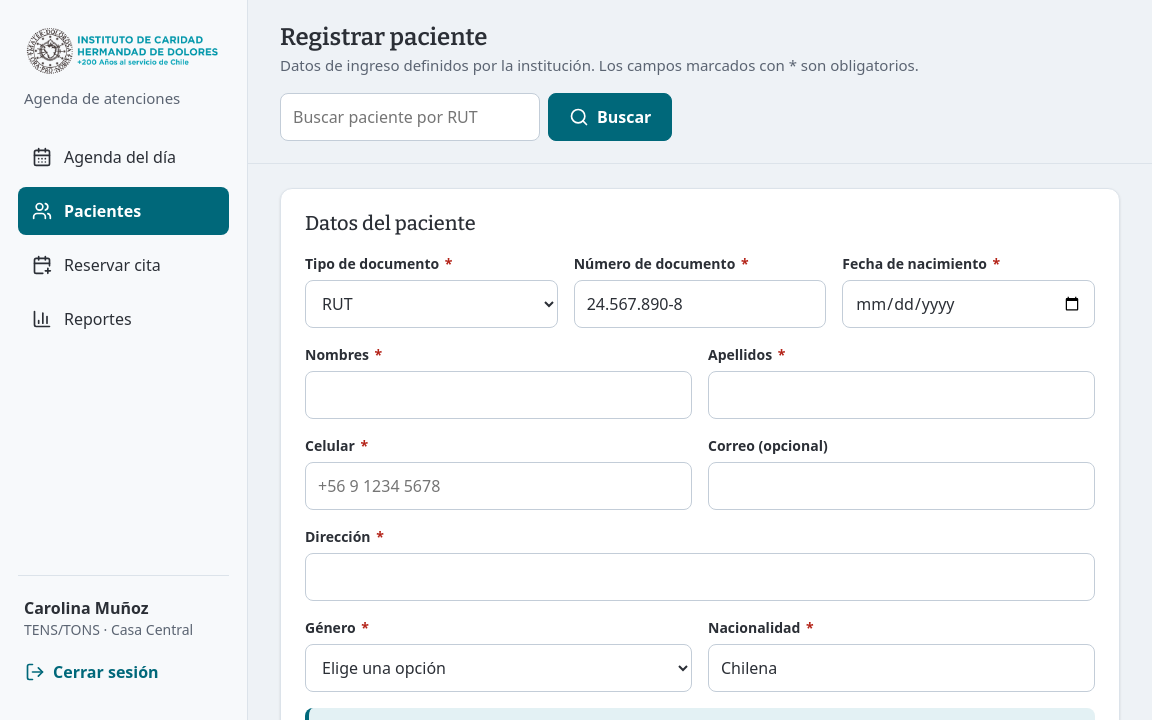
Test: Registrar paciente menor sin adulto responsable (RN-05, CA-RF12-1) › muestra el error y no envía el formulario
Expected: the heading "Registrar paciente" is shown, [280, 23, 488, 51]
In the date field labelled "Fecha de nacimiento *": (969, 304) [842, 280, 1095, 328], type "2017-03-14"
In the field labelled "Nombres *": (498, 394) [305, 370, 692, 418], type "Tomás"
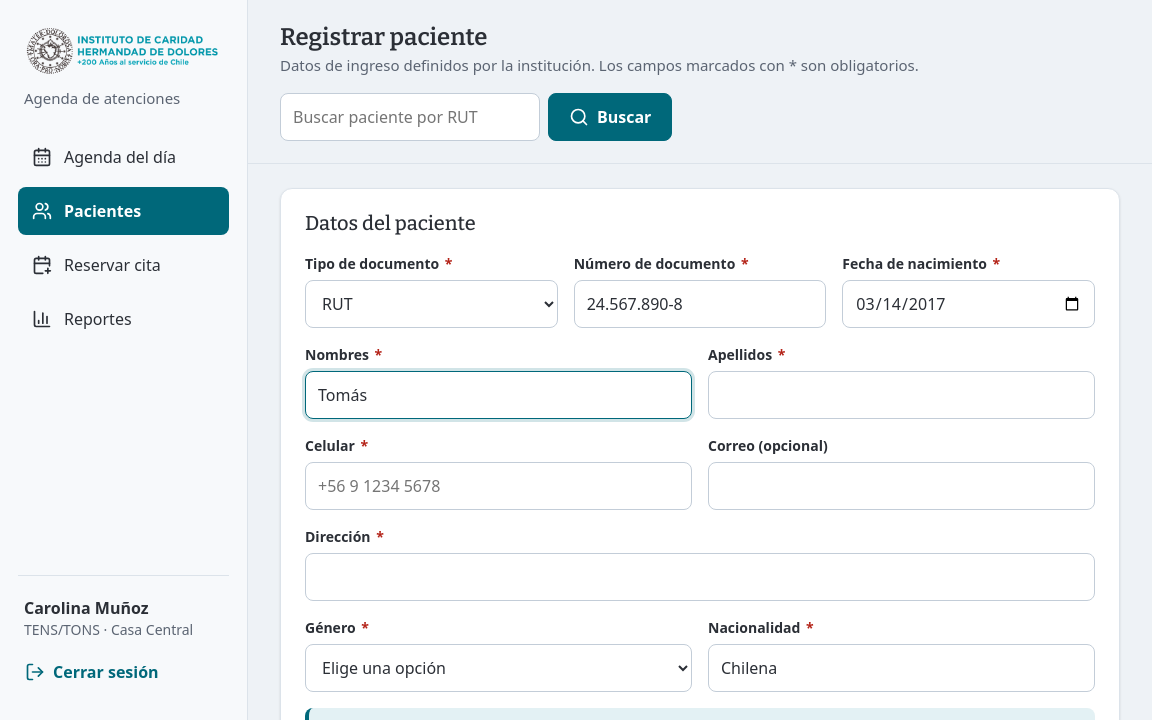
In the field labelled "Apellidos *": (902, 394) [708, 370, 1095, 418], type "Fuentes Vega"
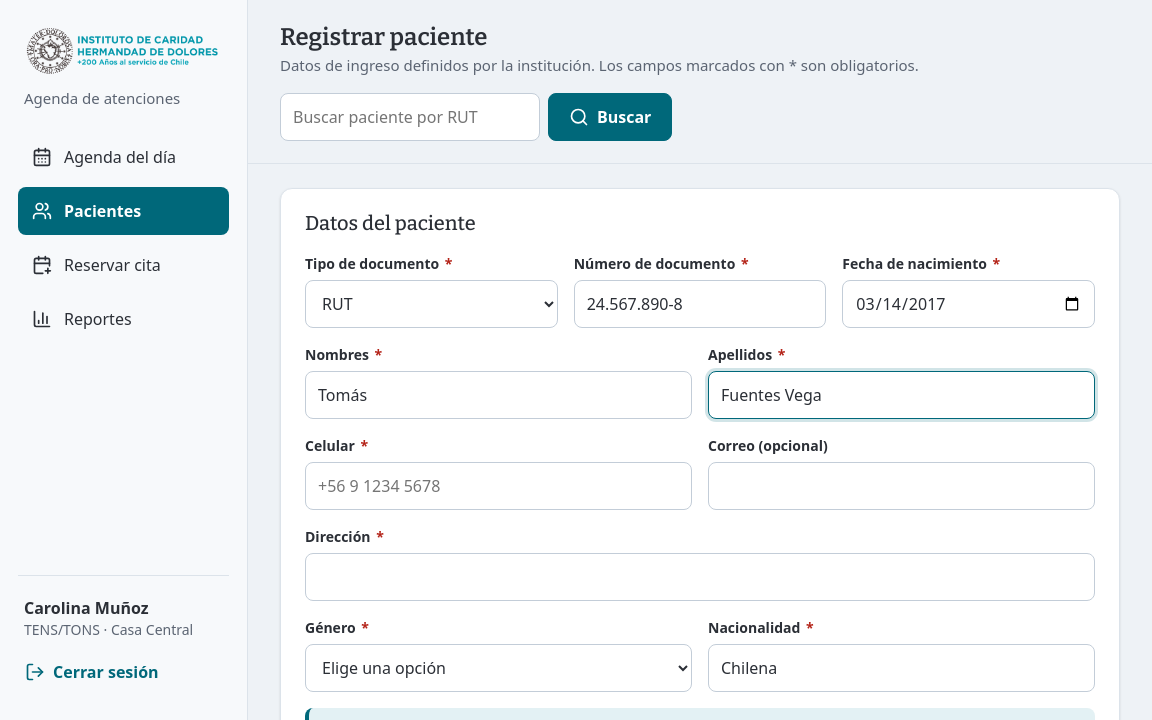
In the field labelled "Celular *": (498, 486) [305, 462, 692, 510], type "+56 9 4444 1212"
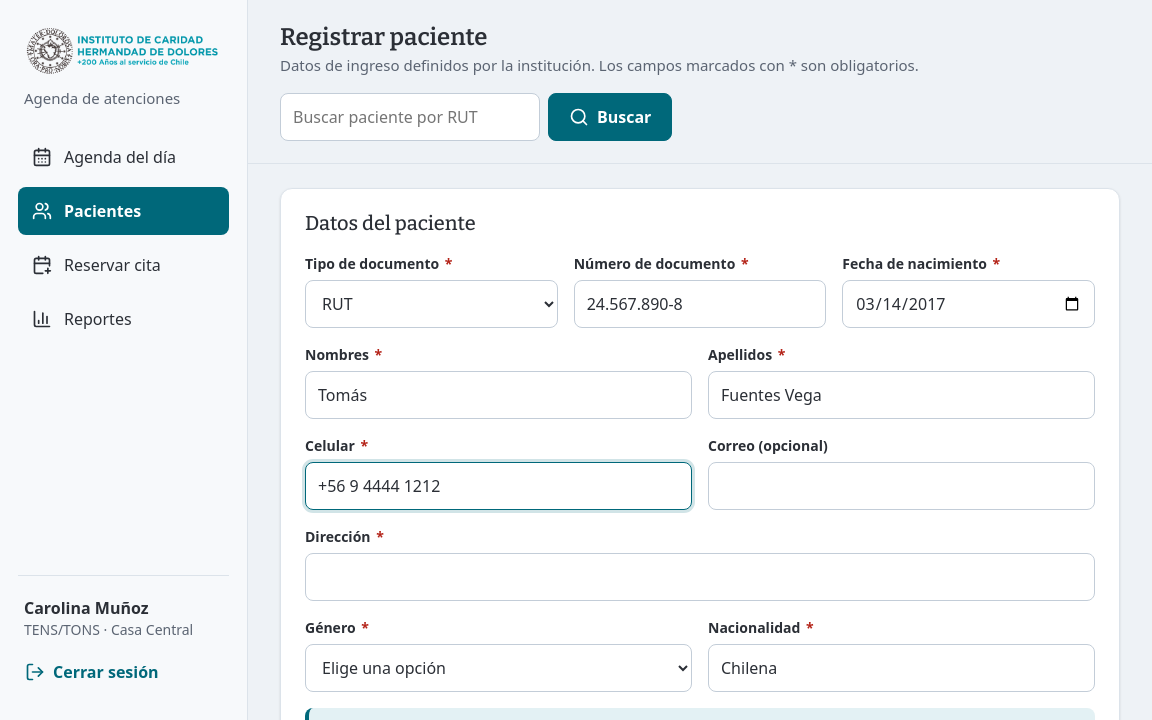
In the field labelled "Dirección *": (700, 576) [305, 552, 1095, 600], type "Calle Los Aromos 456"
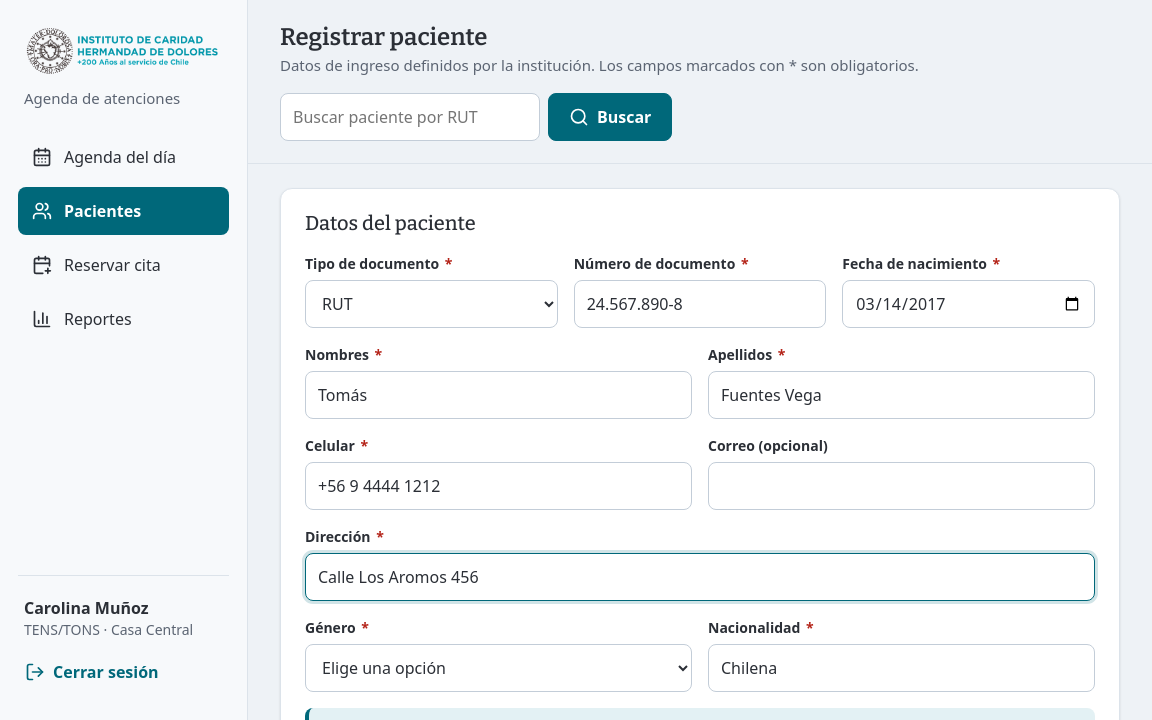
Select "Masculino" in the dropdown labelled "Género *": (498, 668) [305, 644, 692, 692]
(page scrolled)
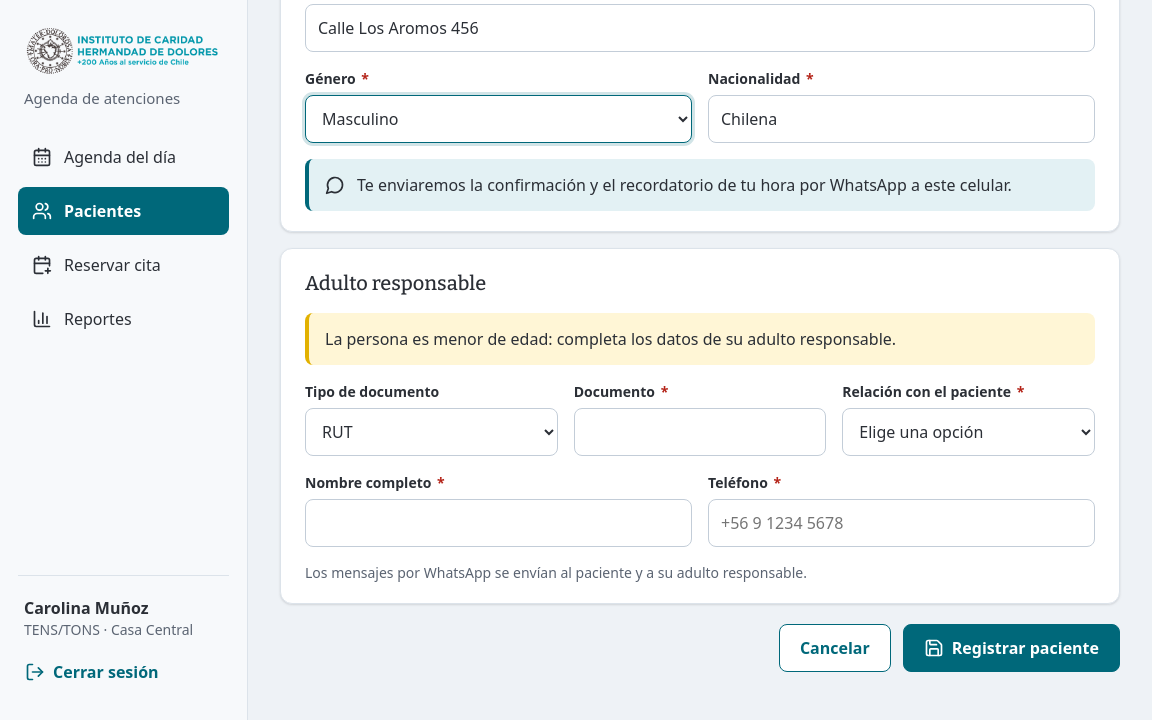
Now the text "La persona es menor de edad" is shown, box [325, 328, 896, 350]
Click the button "Registrar paciente": (1011, 648) [903, 624, 1120, 672]
(page scrolled)
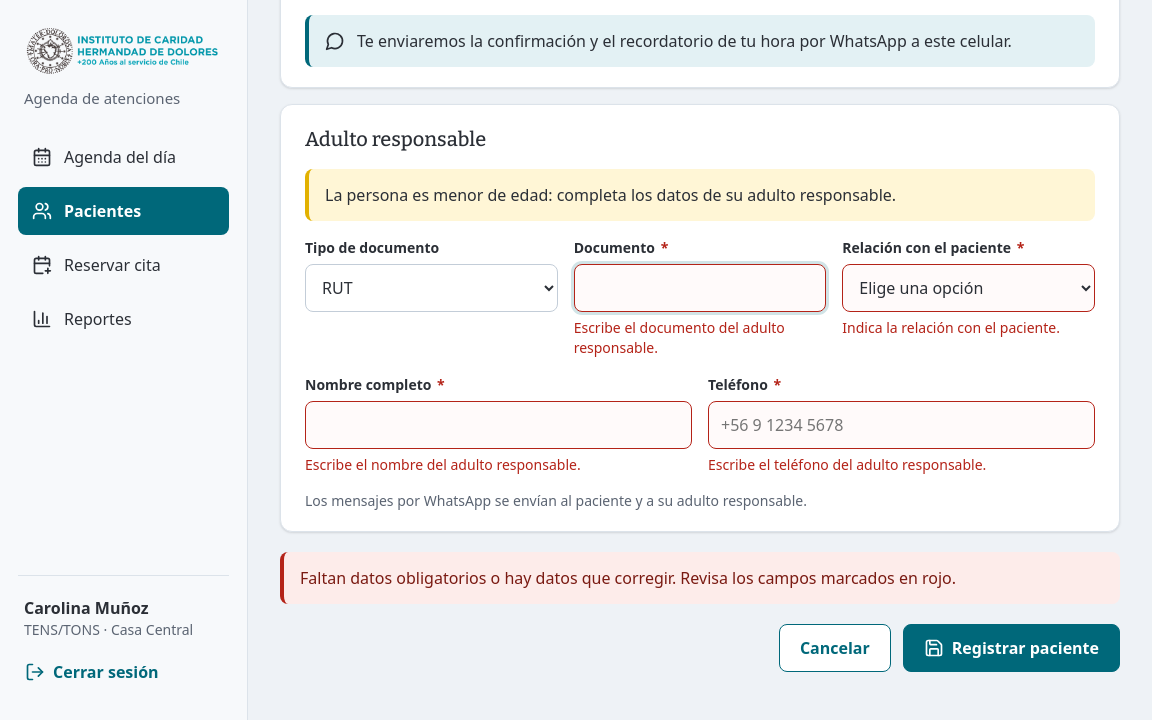
Now the text "Escribe el nombre del adulto responsable." is shown, box [305, 454, 581, 474]
Now the text "Escribe el documento del adulto responsable." is shown, box [574, 318, 785, 356]
Now the message shows "Faltan datos obligatorios", box [300, 566, 956, 588]
